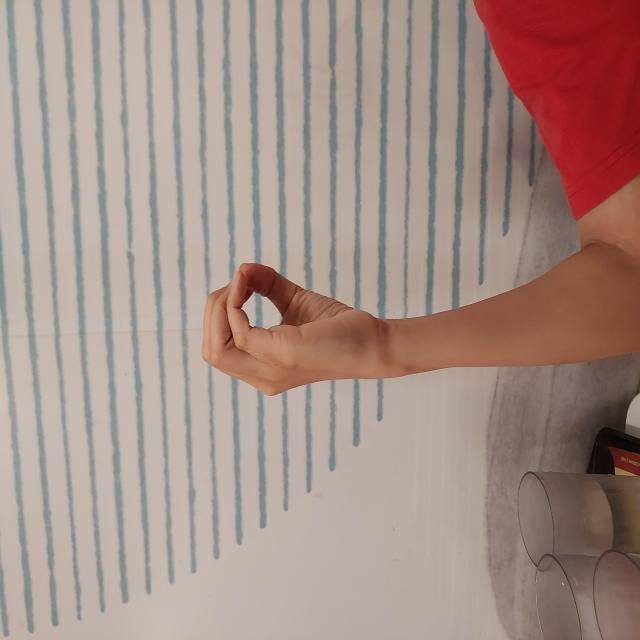O: (243, 199, 380, 387)
